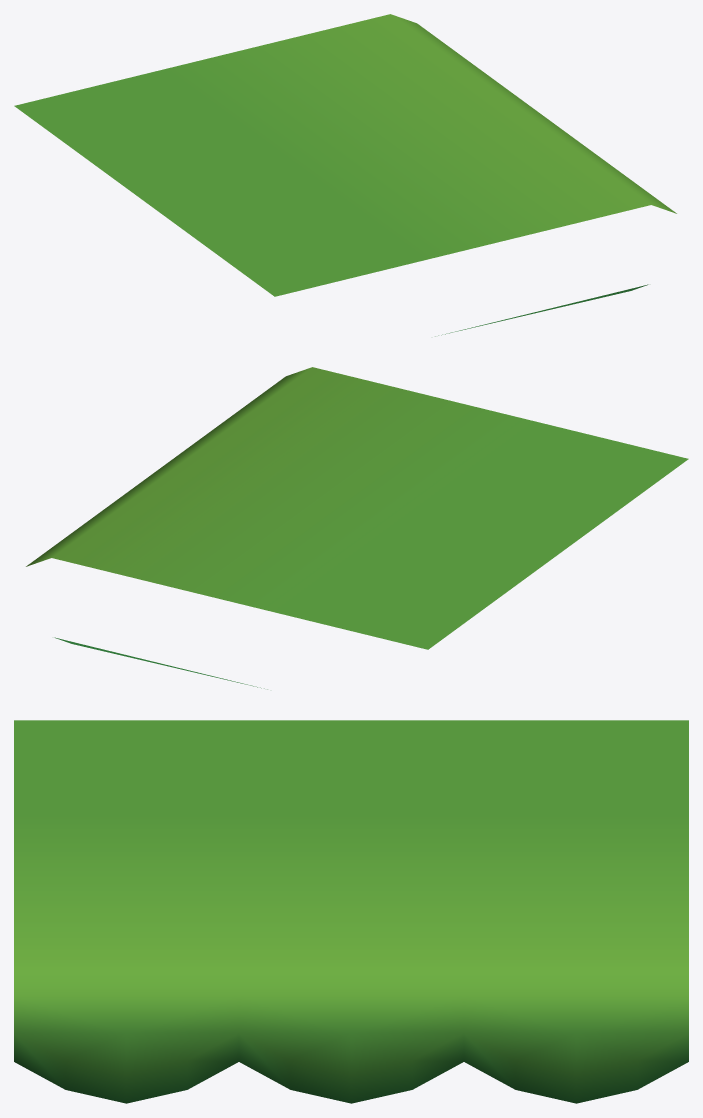
Rendered from Hill_Top_F_Side_Color1.gltf.
The picture shows the model from 3 angles, top to bottom: view 1: azimuth 30°, elevation 25°; view 2: azimuth 150°, elevation 25°; view 3: azimuth 270°, elevation 25°; orthographic projection. The views are drawn at different scales.
Visible parts, largest first — view 1: Hill_Top_F_Side_Color1; view 2: Hill_Top_F_Side_Color1; view 3: Hill_Top_F_Side_Color1.
Part boxes in pixels (bbox=[...]): Hill_Top_F_Side_Color1: bbox=[14, 14, 676, 336]; Hill_Top_F_Side_Color1: bbox=[26, 367, 688, 689]; Hill_Top_F_Side_Color1: bbox=[14, 720, 688, 1103].
Size of the model in its own units: 2.75 by 0.7052 by 3.
1 material, 1 textured.
